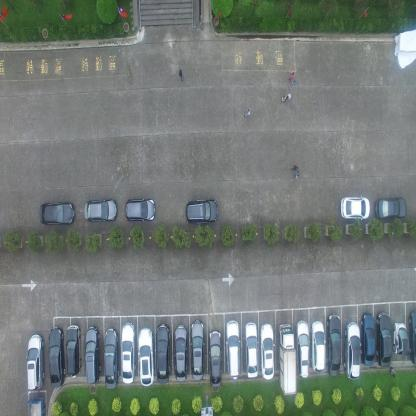car: (278, 322, 297, 397), (48, 326, 66, 389), (26, 332, 45, 391), (103, 325, 119, 391), (138, 326, 155, 387), (225, 319, 242, 379), (344, 320, 361, 379), (189, 318, 205, 380), (155, 322, 171, 384), (39, 202, 76, 228), (84, 324, 100, 384), (121, 322, 136, 384), (327, 312, 341, 376), (184, 198, 218, 224), (66, 324, 82, 379), (84, 199, 119, 224), (173, 324, 188, 382), (260, 322, 275, 379), (124, 198, 157, 223), (208, 330, 222, 388), (311, 319, 326, 373), (340, 194, 370, 221), (245, 321, 259, 378), (377, 310, 391, 366), (361, 311, 375, 365), (296, 319, 309, 377), (375, 196, 407, 219), (393, 318, 409, 354), (408, 308, 416, 366), (27, 395, 46, 415)
